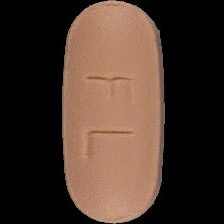63629-3383: (0, 0, 224, 224)
